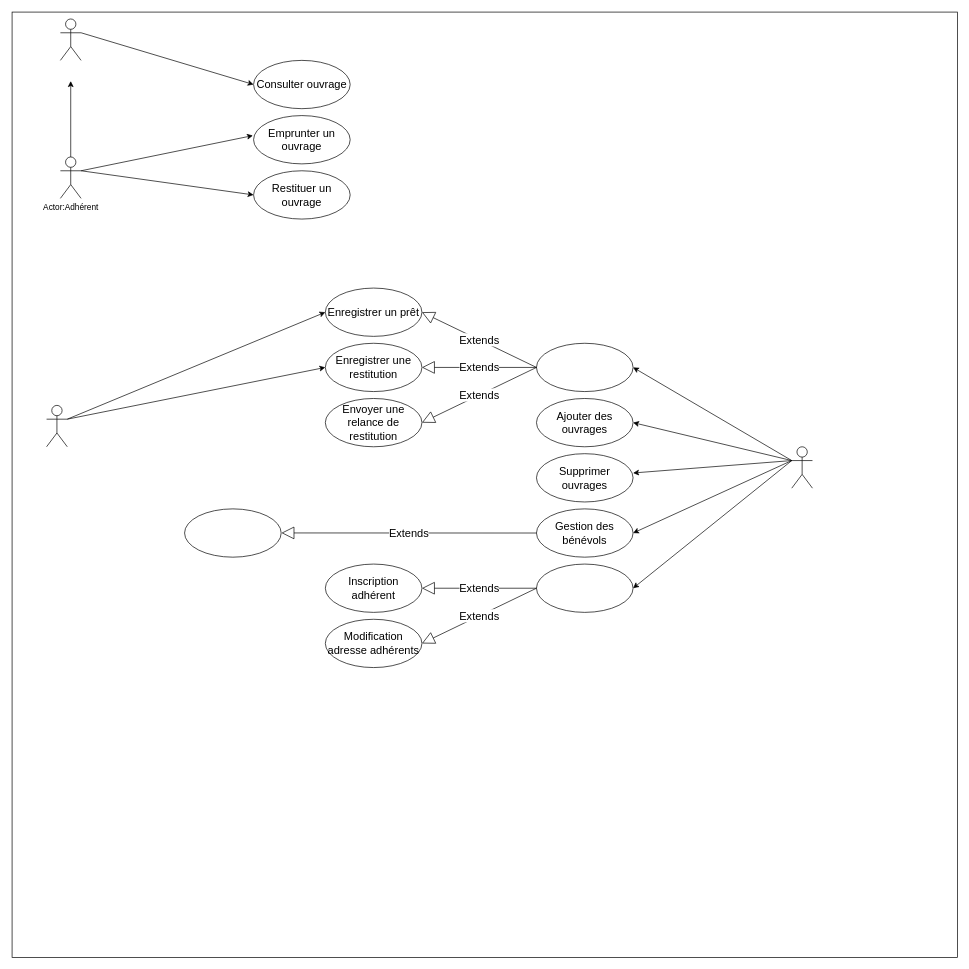
Image size: 969x969. Some labels were removed from this diagram. Here are the shapes that lost their labels. From the top down, the centre of each, then its label:
the point at 70,39: Actor:Usager
the point at 584,367: Gestion des prêts
the point at 56,426: Actor:Bénévols
the point at 801,467: Actor:Employé
the point at 232,532: Donner un accès provisoire
the point at 584,587: Gestion des adhérent
